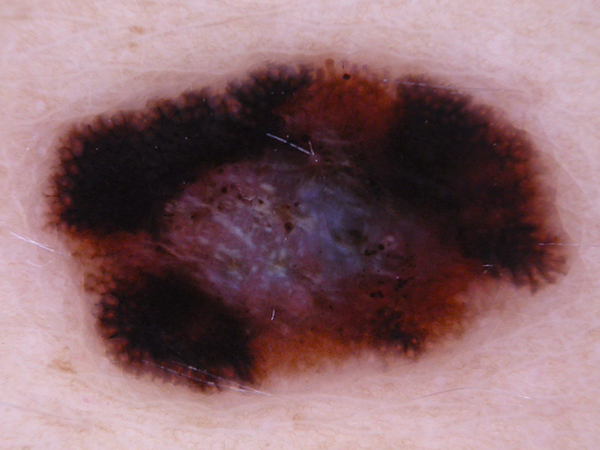Detected Lesion: (41, 52, 581, 402)
